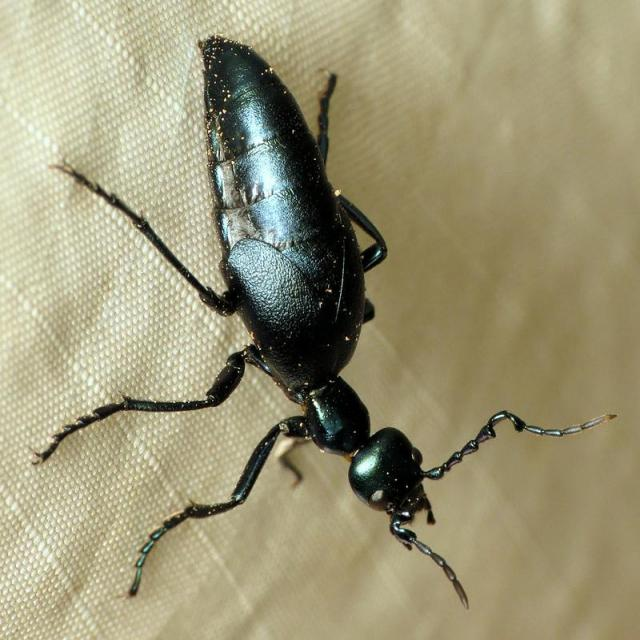BlisterBeetle-Adult-: (41, 28, 567, 605)
